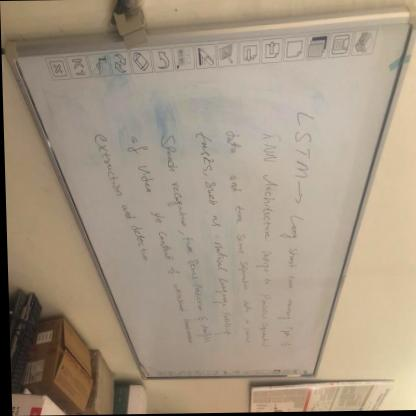Handwritten text: (112, 124, 198, 370), (258, 94, 327, 360), (151, 127, 213, 354), (74, 122, 157, 286), (192, 118, 237, 364), (221, 122, 257, 363), (252, 121, 283, 358)
